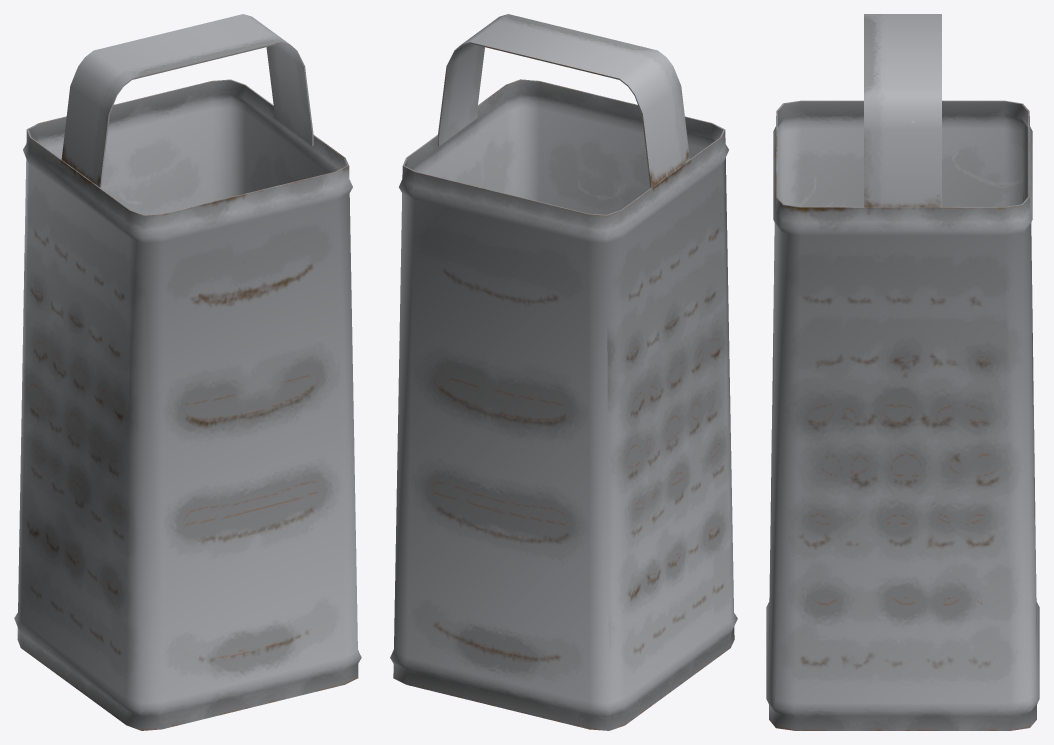
File: Grater01.FBX
3 views of the same model, side by side, from view 1: azimuth 30°, elevation 25°; view 2: azimuth 150°, elevation 25°; view 3: azimuth 270°, elevation 25° (orthographic).
Visible parts, largest first — view 1: Grater01_LOD0; view 2: Grater01_LOD0; view 3: Grater01_LOD0.
Part boxes in pixels (<box>): Grater01_LOD0: <box>14,14,361,730</box>; Grater01_LOD0: <box>390,14,737,730</box>; Grater01_LOD0: <box>766,14,1039,730</box>.
Size of the model in its own units: 7.13 by 7.13 by 17.97.
